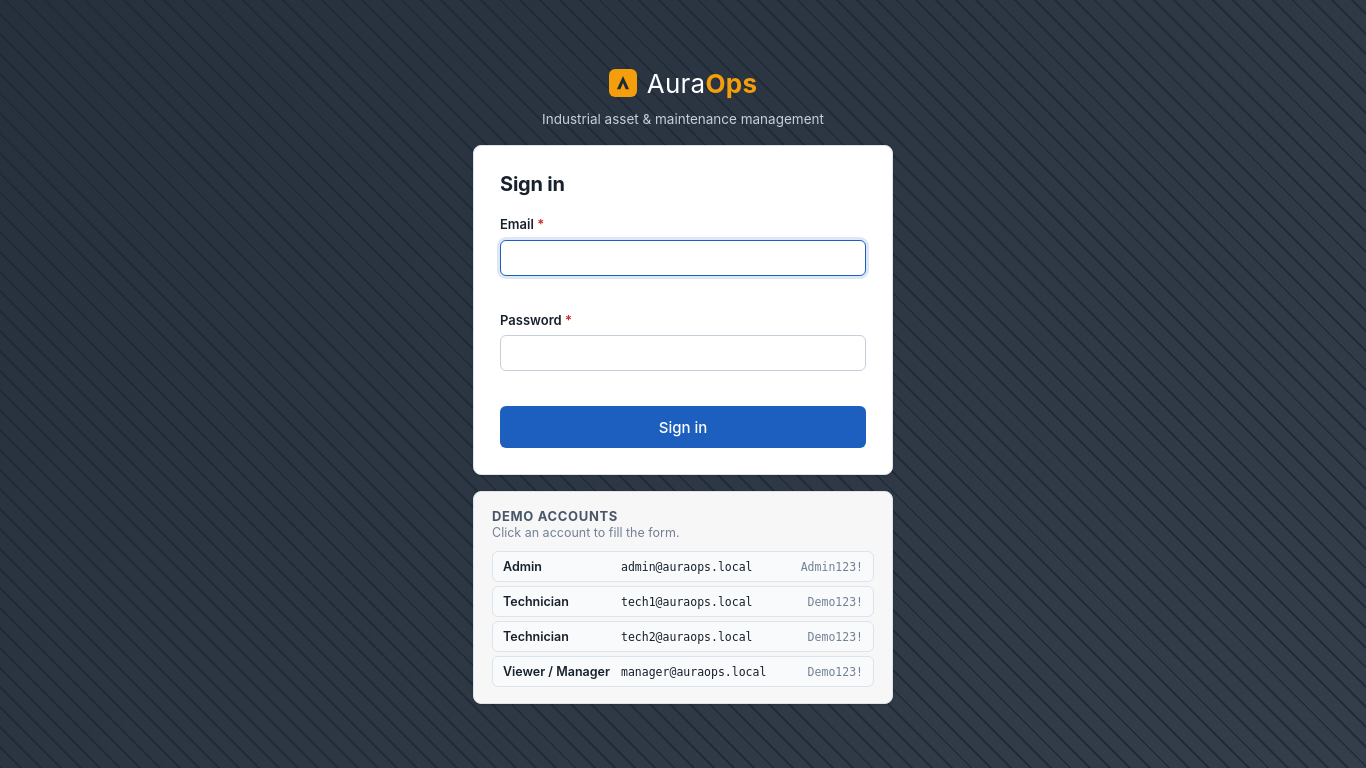
Test: LoginPage › validates the email format
In the field labelled "Email *": (683, 258) x1=500 y1=240 x2=866 y2=276, type "not-an-email"
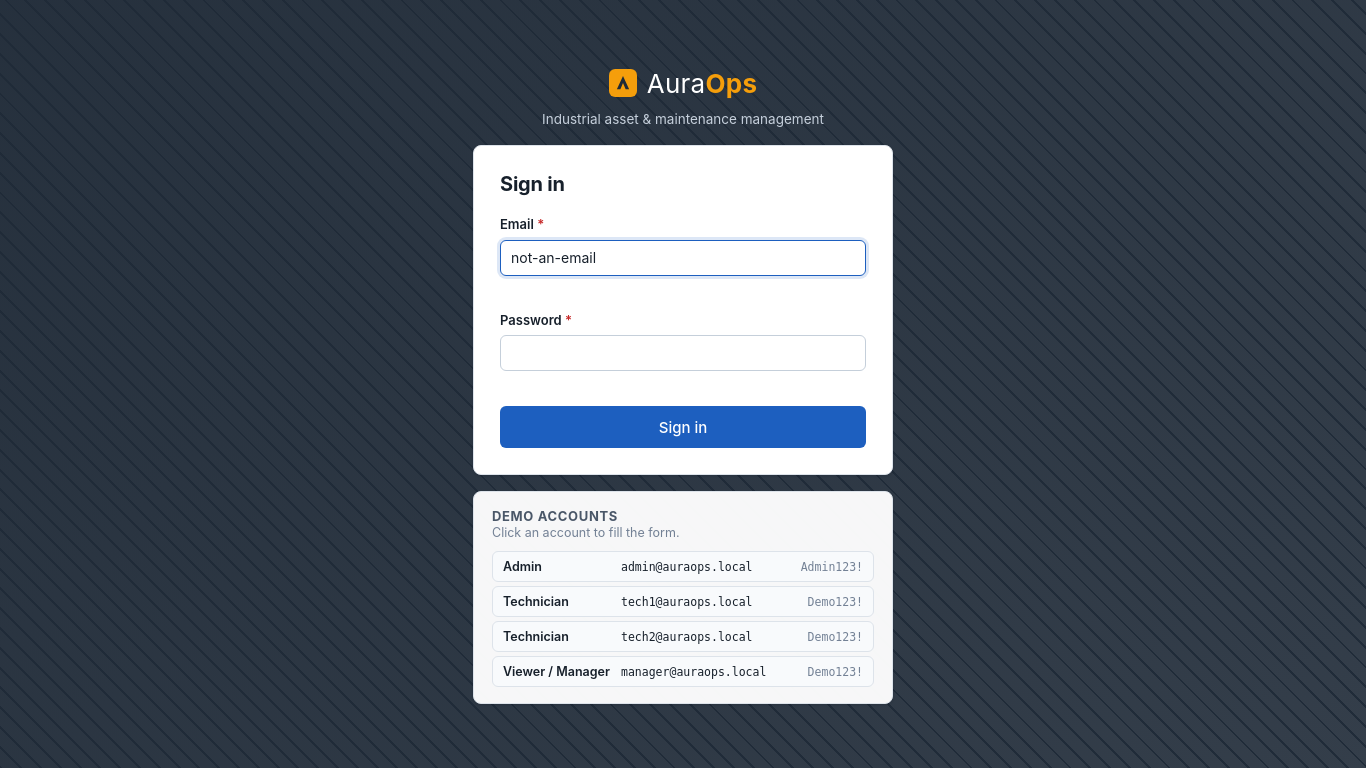
In the password field labelled "Password *": (683, 353) x1=500 y1=335 x2=866 y2=371, type "secret"
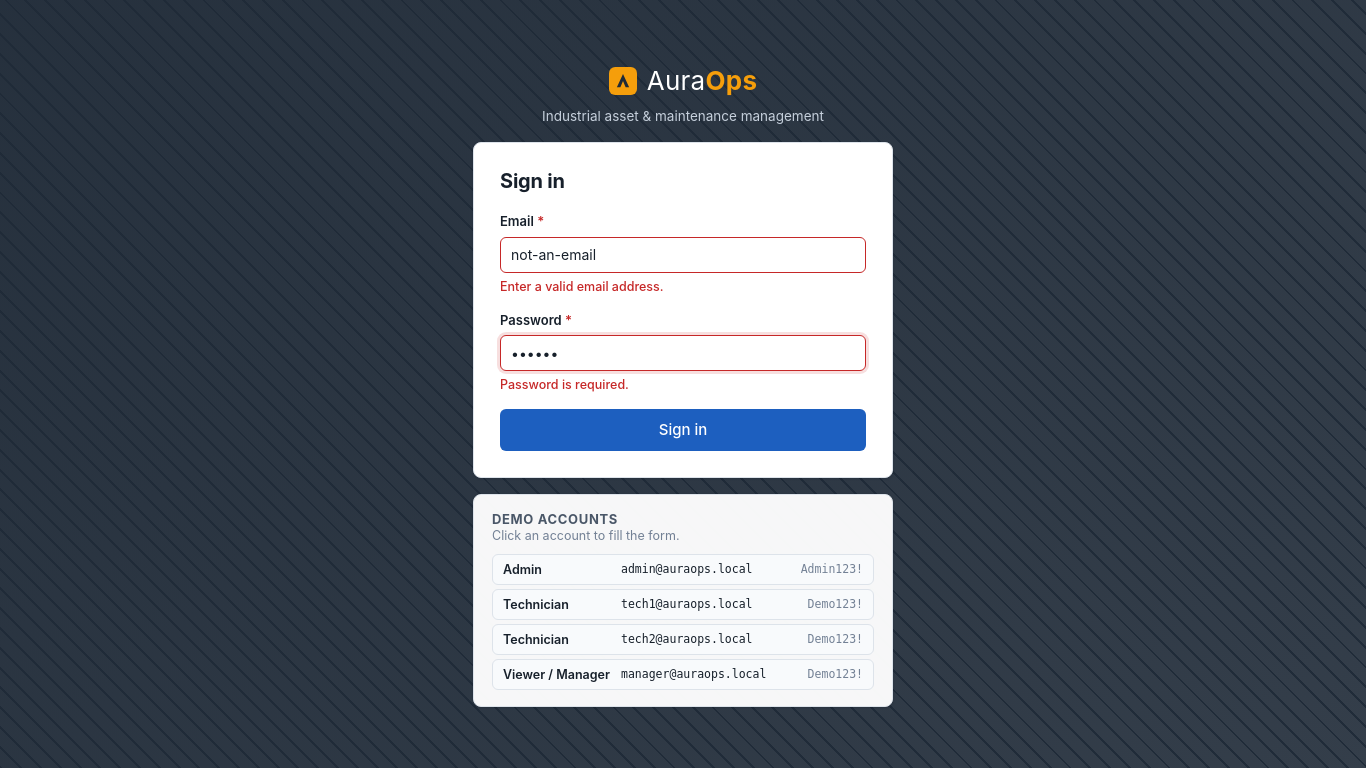
Click the button "Sign in": (683, 430) x1=500 y1=409 x2=866 y2=451
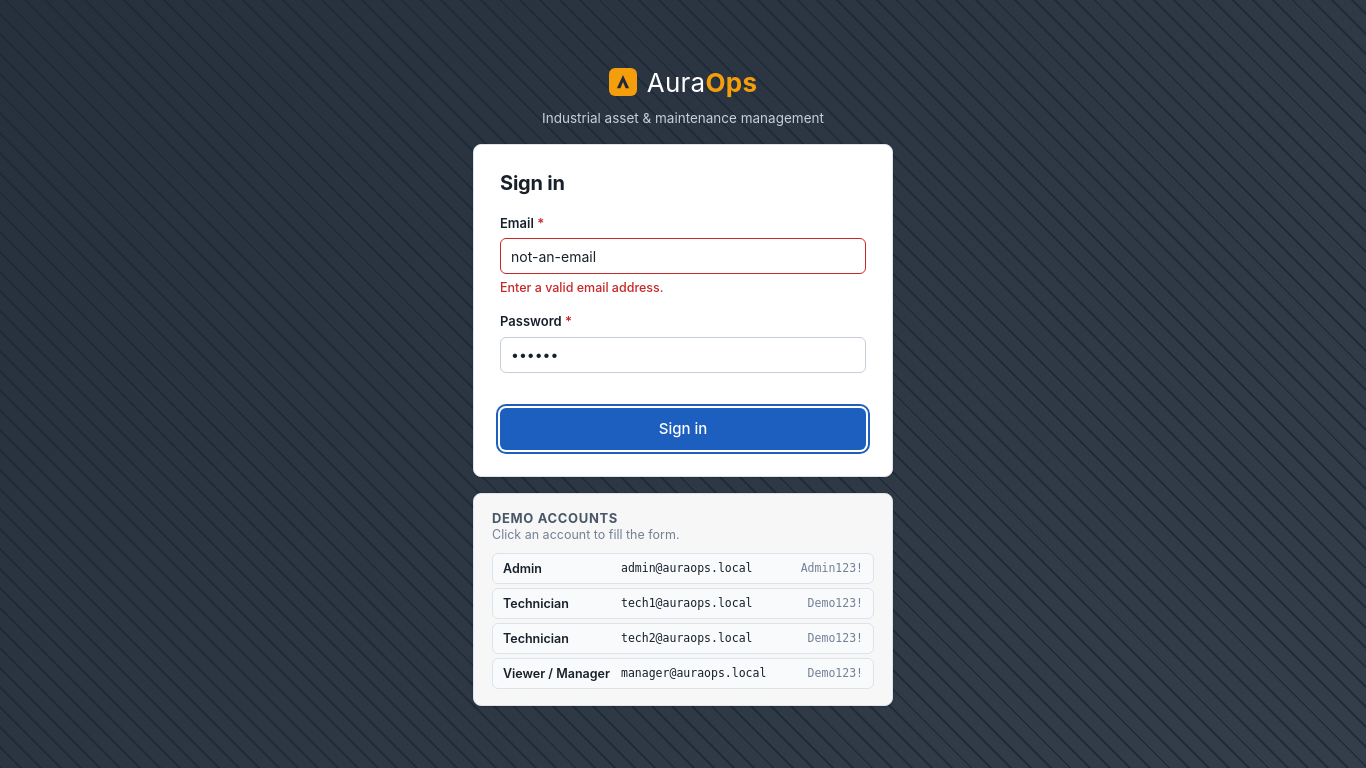
Expected: the text "Enter a valid email address." is shown, x1=500 y1=279 x2=664 y2=298
Expected: the text "Password is required." is gone
